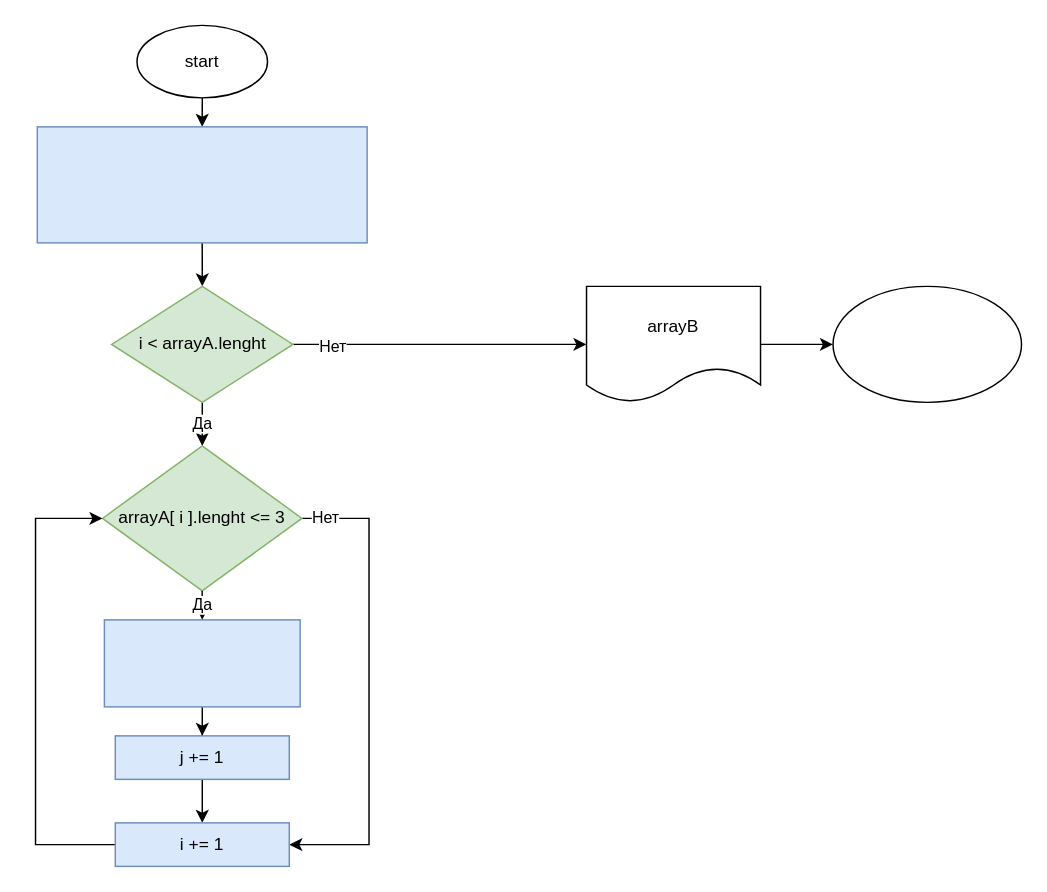
The diagram is 1047 pixels wide and 892 high, and some of its shapes have lost their labels. The centre of each missing label's shape, as x and y in pixels:
arrayA = ["hello", "2", "world", ":-)"] i = 0 arrayB = [] j = 0: point (201, 184)
arrayB[ j ] = arrayA[ i ]: point (201, 662)
End: point (927, 343)
